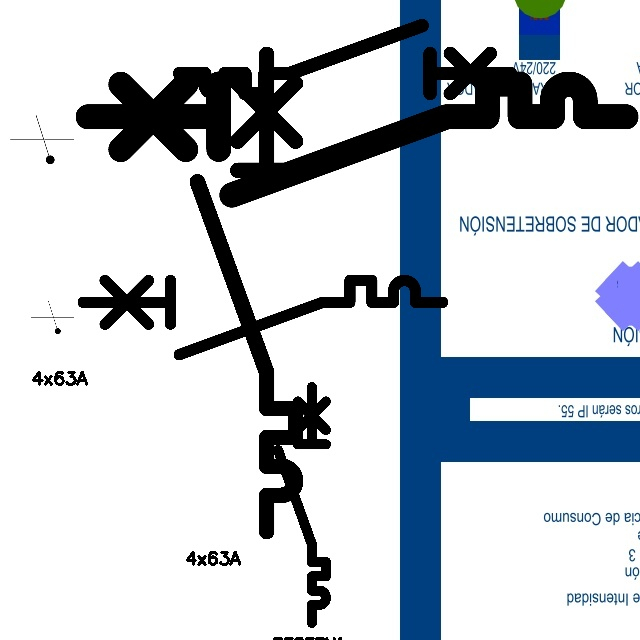interruptor_termomagnetico: (74, 70, 640, 208), (185, 42, 308, 544), (73, 271, 452, 363), (171, 17, 519, 102), (272, 381, 332, 629)
